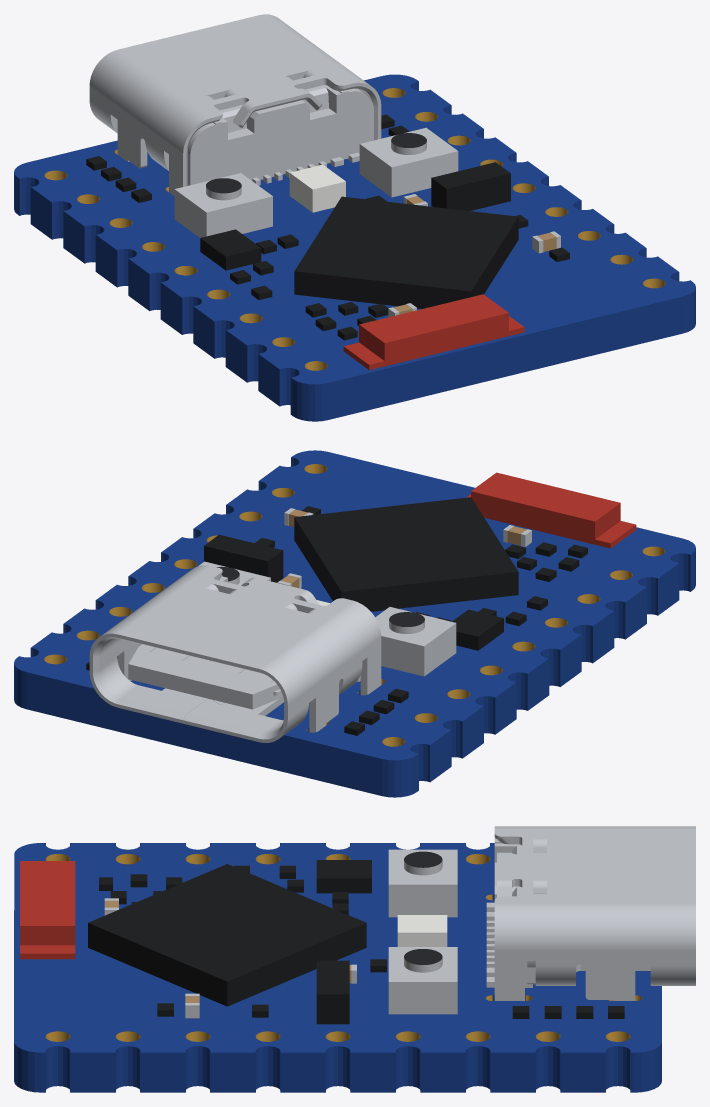
The model's file is esp32-s3-zero.glb.
The picture shows the model from 3 angles, top to bottom: view 1: azimuth 30°, elevation 25°; view 2: azimuth 150°, elevation 25°; view 3: azimuth 270°, elevation 25°; orthographic projection. The views are drawn at different scales.
Visible parts, largest first — view 1: board, led; view 2: board; view 3: board, led, boot.
Part boxes in pixels (<box>): board: <box>14,14,695,421</box>; led: <box>289,164,345,212</box>; board: <box>14,450,695,797</box>; board: <box>14,826,695,1092</box>; led: <box>397,915,447,946</box>; boot: <box>404,851,442,867</box>.
Bounding box in the file's own units: 18.02 × 4.85 × 24.74.
